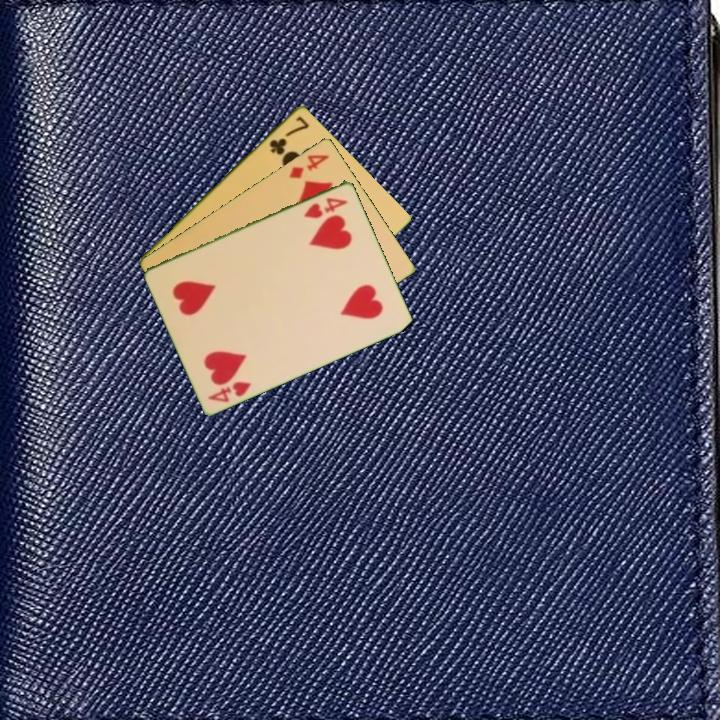4d: (286, 150, 332, 181)
4h: (300, 193, 351, 221), (205, 377, 254, 405)
7c: (265, 112, 312, 158)
